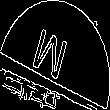M_S: (34, 23, 76, 87)
